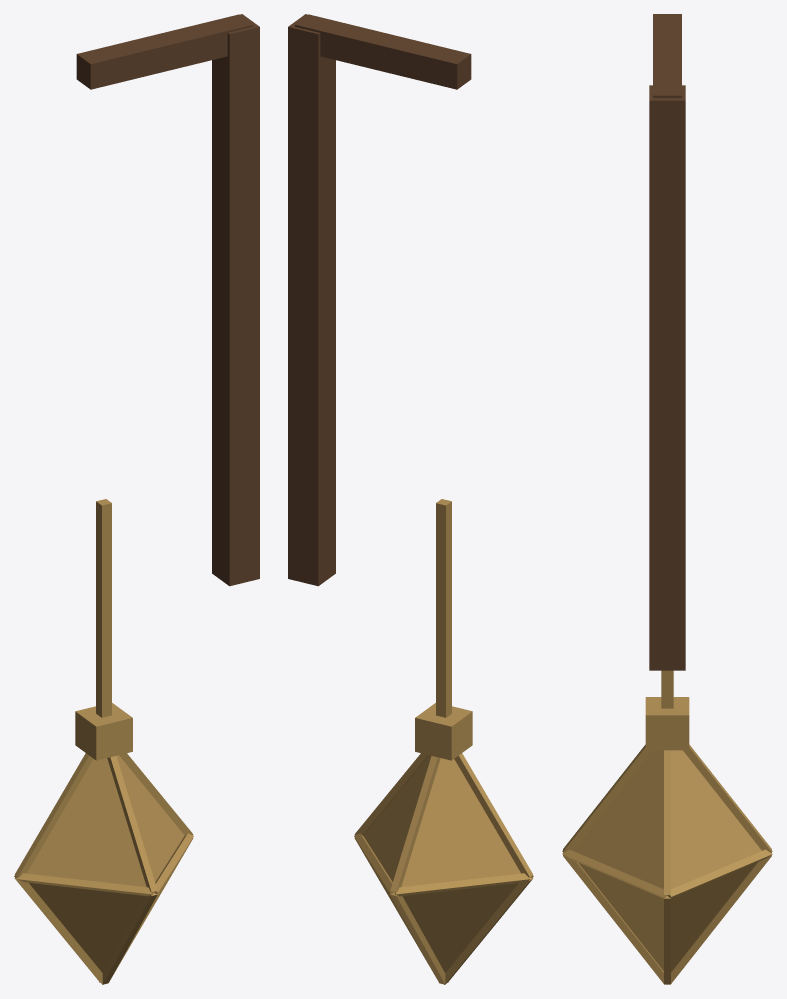
File: lantern.glb
3 renders of one model, left to right at view 1: azimuth 30°, elevation 25°; view 2: azimuth 150°, elevation 25°; view 3: azimuth 270°, elevation 25°, orthographic. The views are drawn at different scales.
Visible parts, largest first — view 1: lantern_LOD0; view 2: lantern_LOD0; view 3: lantern_LOD0.
Part boxes in pixels (<box>): lantern_LOD0: <box>14,14,259,984</box>; lantern_LOD0: <box>288,14,533,984</box>; lantern_LOD0: <box>562,14,772,984</box>.
Size of the model in its own units: 1.16 by 4.37 by 0.87.
